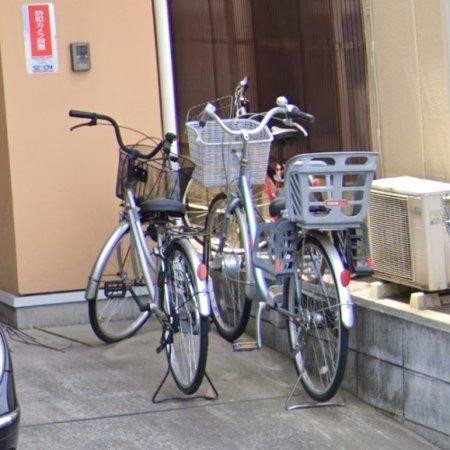bicycles: (187, 79, 378, 401), (69, 110, 211, 395)
